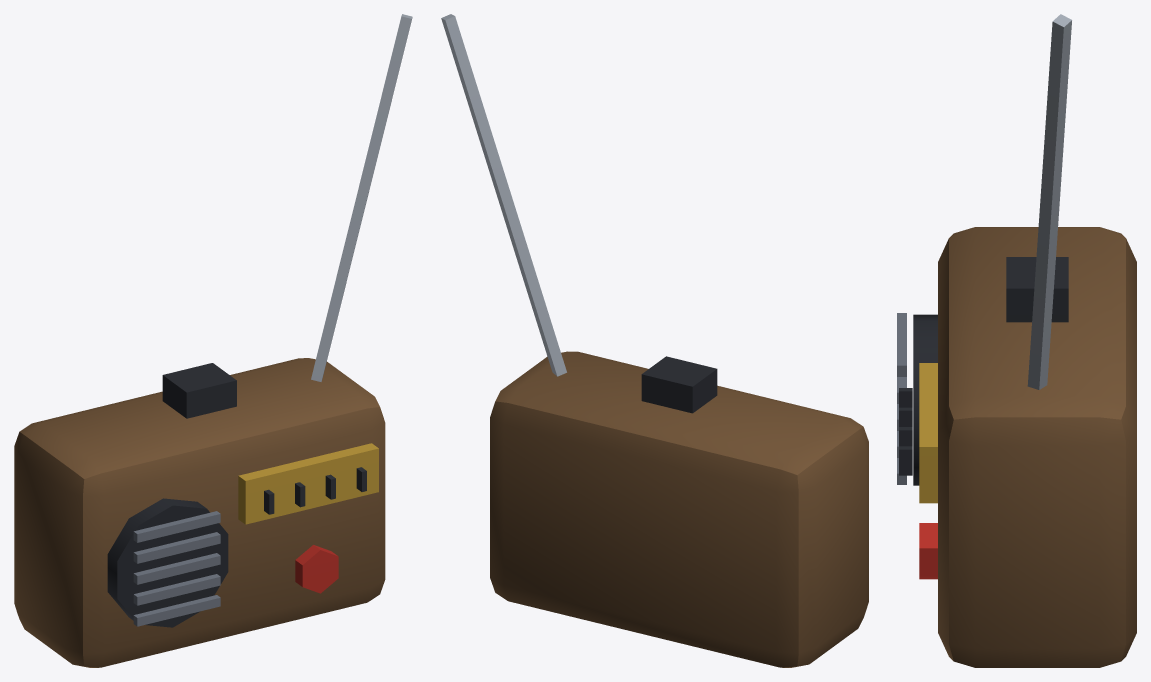
File: item_radio.glb
3 views of the same model, side by side, from view 1: azimuth 30°, elevation 25°; view 2: azimuth 150°, elevation 25°; view 3: azimuth 270°, elevation 25° (orthographic). The views are drawn at different scales.
Parts seen in each view (by area): view 1: item_radio, item_radio_detail; view 2: item_radio; view 3: item_radio, item_radio_detail.
Boxes of the visible parts, left/top/right/bottom form: item_radio: left=14, top=14, right=412, bottom=667; item_radio_detail: left=133, top=467, right=366, bottom=626; item_radio: left=441, top=14, right=868, bottom=667; item_radio: left=913, top=14, right=1136, bottom=667; item_radio_detail: left=897, top=313, right=912, bottom=484.
Size of the model in its own units: 0.4575 by 0.6224 by 0.193.
